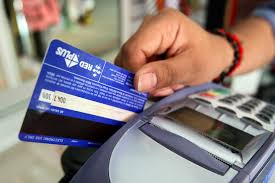tarjeta: (19, 39, 149, 148)
